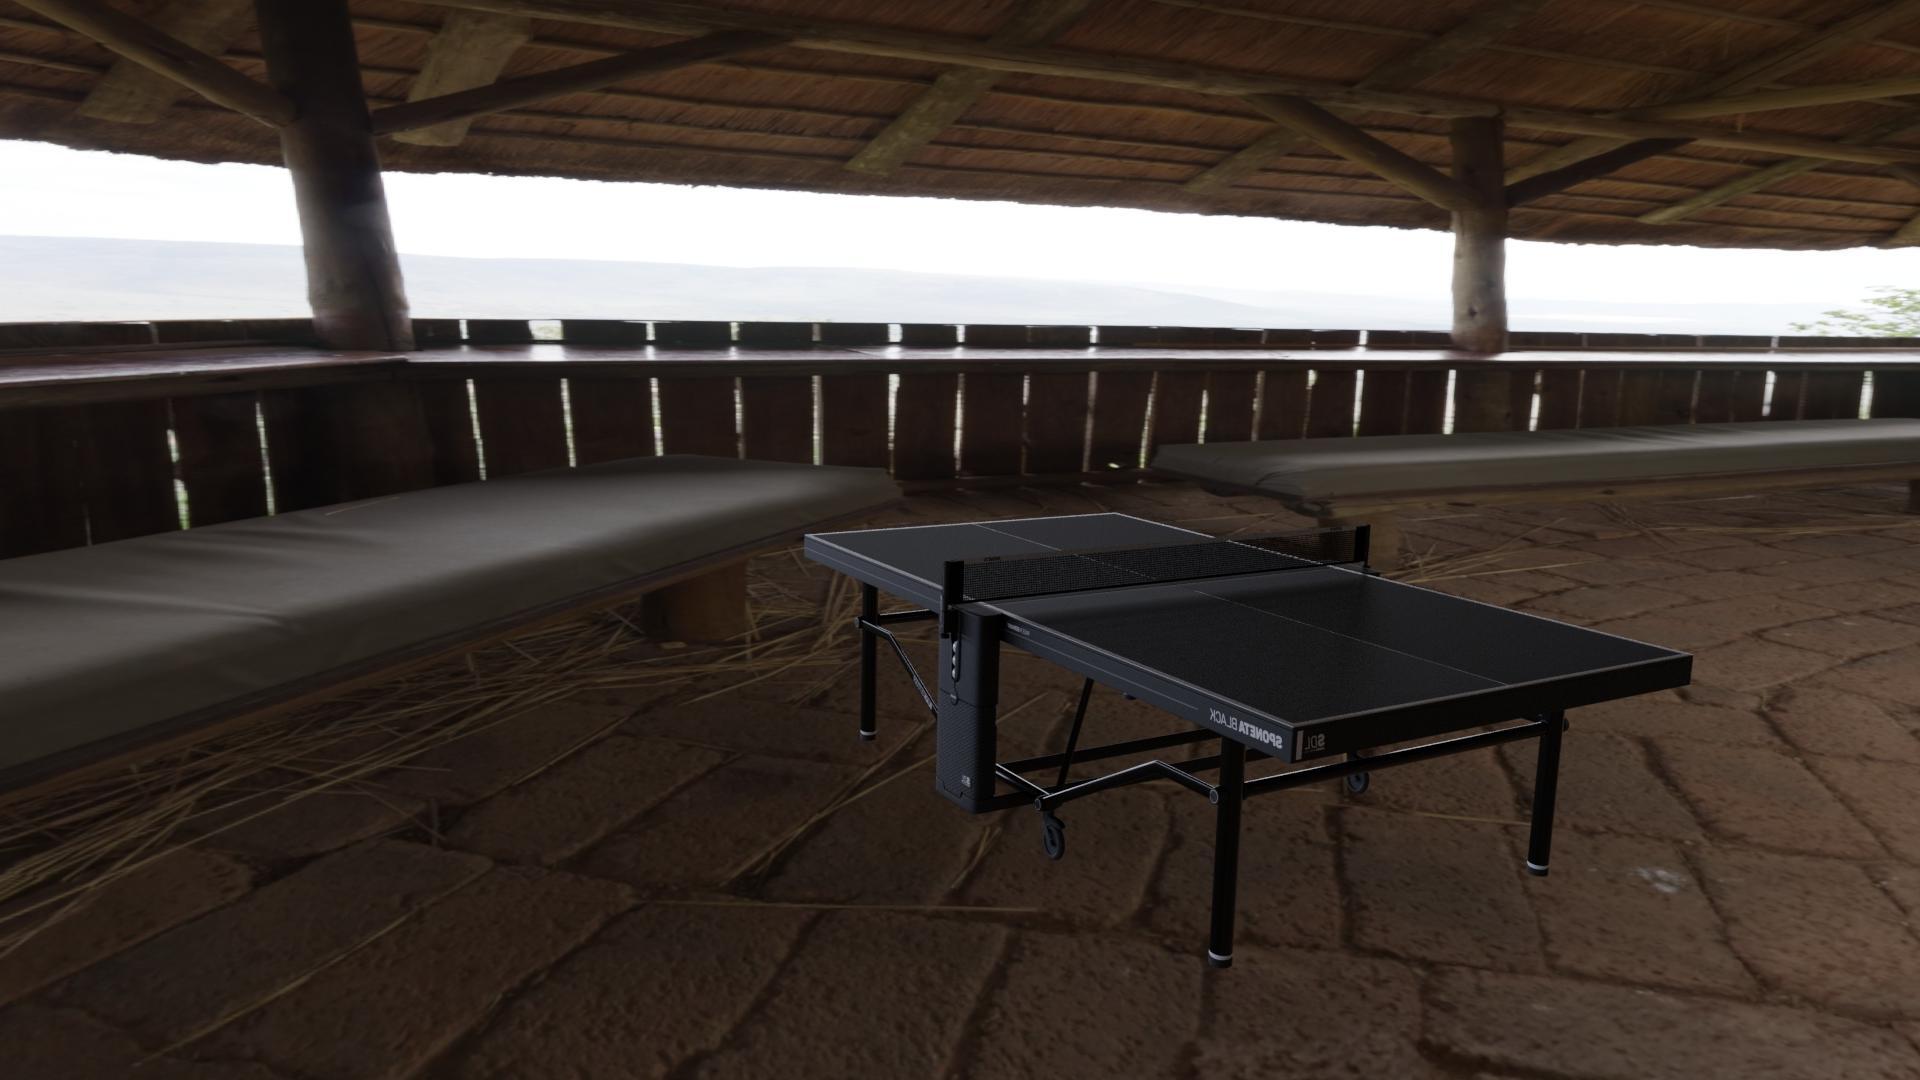table: (811, 514, 1683, 724)
